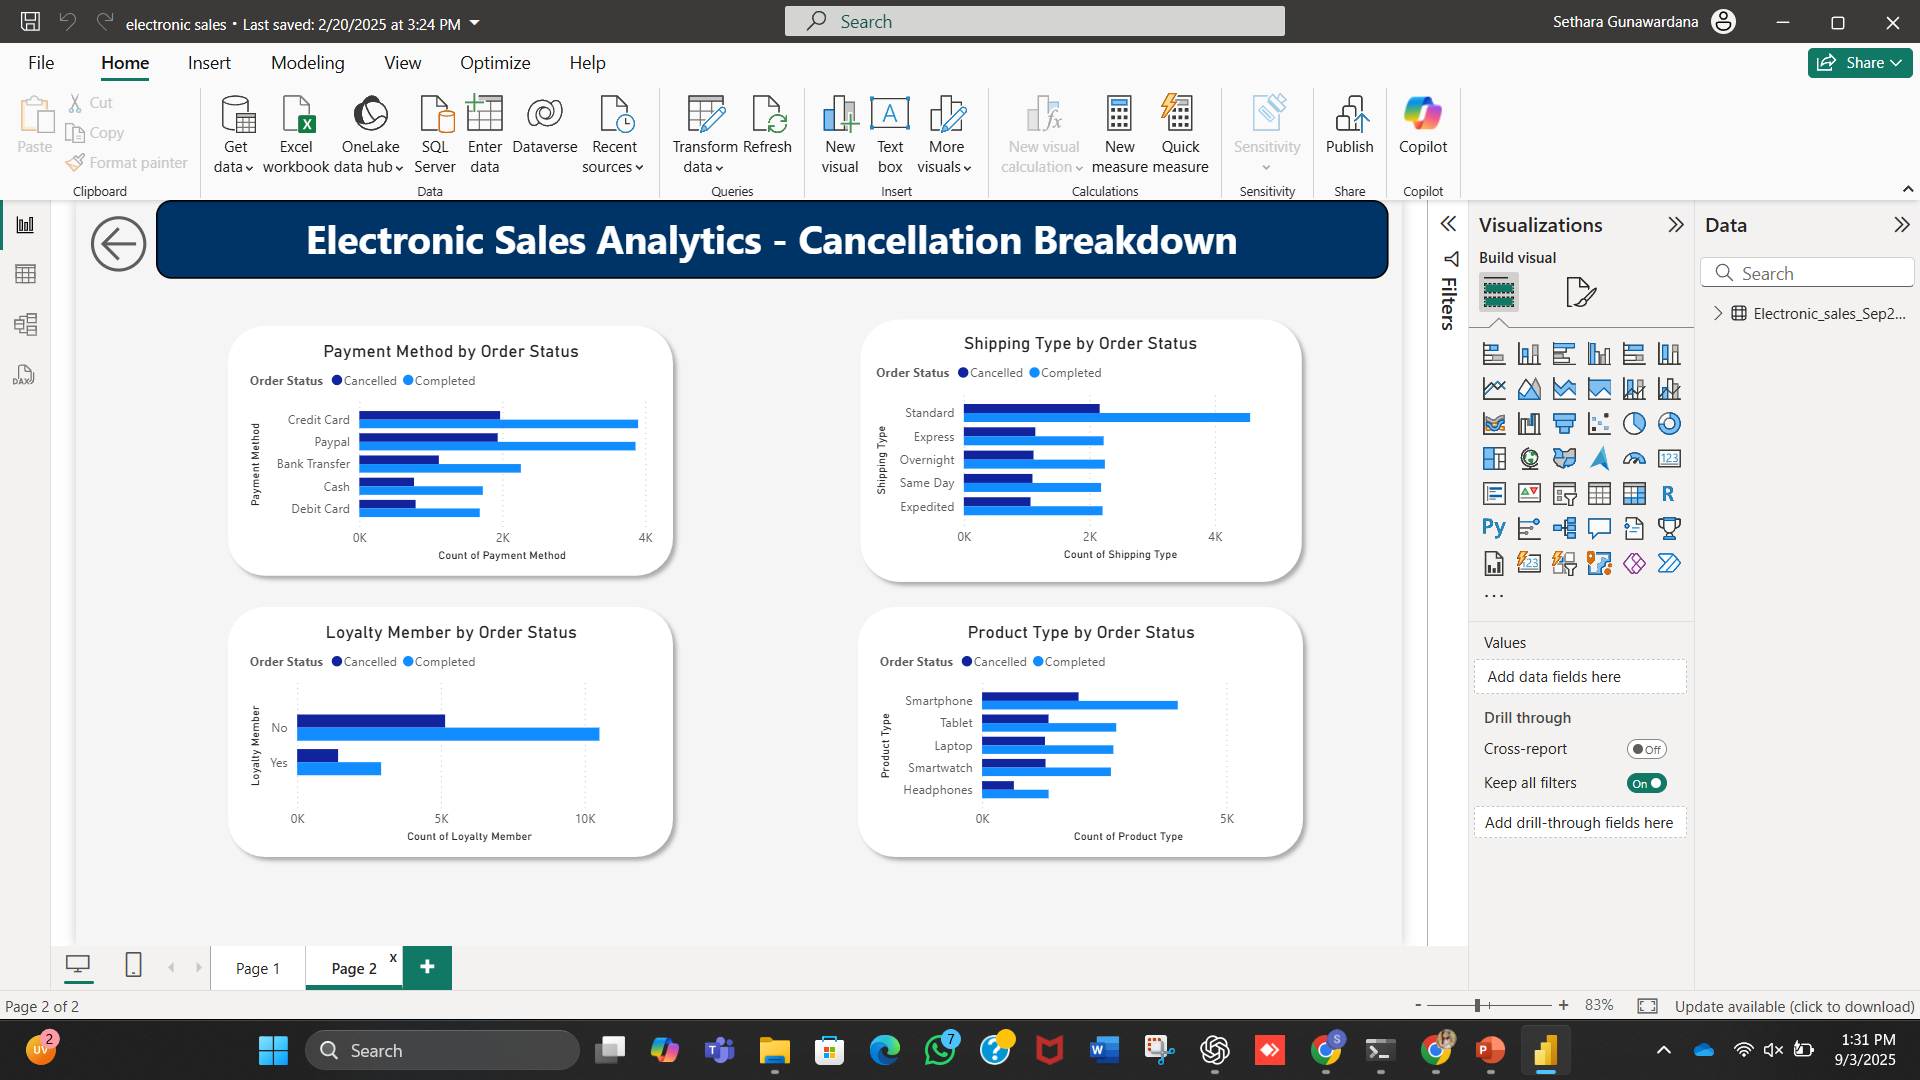

The page's visual inventory and layout, read from the dashboard file:
{"tool":"powerbi","page":{"name":"Page 2","canvas":[1280,720],"ordinal":1},"visuals":[{"type":"shape","box":[747.7,106.2,444,271.4],"z":0,"group":"g2"},{"type":"shape","box":[138.1,112.2,447.6,259.5],"z":0,"group":"g4"},{"type":"shape","box":[138.1,383,447.6,259.5],"z":0,"group":"g3"},{"type":"group","id":"g1","title":"Group 3","box":[746.1,383.3,447.6,259.4],"z":0},{"type":"shape","box":[746.1,383.3,447.6,259.5],"z":0,"group":"g1"},{"type":"group","id":"g2","title":"Group 8","box":[747.7,106.2,444,271.4],"z":1000},{"type":"group","id":"g3","title":"Group 3","box":[138.1,383,447.6,259.4],"z":2000},{"type":"group","id":"g4","title":"Group 3","box":[138.1,112.2,447.6,259.4],"z":3000},{"type":"clusteredBarChart","title":"Shipping Type by Order Status","fields":{"Category":["Electronic_sales_Sep2023-Sep2024.Shipping Type"],"Y":["CountNonNull(Electronic_sales_Sep2023-Sep2024.Shipping Type)"],"Series":["Electronic_sales_Sep2023-Sep2024.Order Status"]},"box":[766.7,127.6,404.7,225],"z":3000,"group":"g2"},{"type":"textbox","box":[77.4,0,1189.3,76.2],"z":4000},{"type":"actionButton","box":[7.1,8.3,164.3,67.9],"z":5000},{"type":"clusteredBarChart","title":"Payment Method by  Order Status","fields":{"Series":["Electronic_sales_Sep2023-Sep2024.Order Status"],"Category":["Electronic_sales_Sep2023-Sep2024.Payment Method"],"Y":["CountNonNull(Electronic_sales_Sep2023-Sep2024.Payment Method)"]},"box":[163.1,134.8,398.8,219],"z":6000,"group":"g4"},{"type":"clusteredBarChart","title":"Loyalty Member by  Order Status","fields":{"Category":["Electronic_sales_Sep2023-Sep2024.Loyalty Member"],"Series":["Electronic_sales_Sep2023-Sep2024.Order Status"],"Y":["CountNonNull(Electronic_sales_Sep2023-Sep2024.Loyalty Member)"]},"box":[163.1,405.6,398.8,219],"z":6000,"group":"g3"},{"type":"clusteredBarChart","title":"Product Type by  Order Status","fields":{"Category":["Electronic_sales_Sep2023-Sep2024.Product Type"],"Series":["Electronic_sales_Sep2023-Sep2024.Order Status"],"Y":["CountNonNull(Electronic_sales_Sep2023-Sep2024.Product Type)"]},"box":[771.1,405.9,398.8,219],"z":6000,"group":"g1"}]}

Visuals, with their boxes on the page's 1280x720 design canvas (x1, y1, x2, y2). These are canvas units, not pixel positions in the 1920x1080 screenshot, which may show the page scaled, cropped or inside an application window:
shape: box=[748, 106, 1192, 378]
shape: box=[138, 112, 586, 372]
shape: box=[138, 383, 586, 642]
"Group 3" group: box=[746, 383, 1194, 643]
shape: box=[746, 383, 1194, 643]
"Group 8" group: box=[748, 106, 1192, 378]
"Group 3" group: box=[138, 383, 586, 642]
"Group 3" group: box=[138, 112, 586, 372]
"Shipping Type by Order Status" clusteredBarChart: box=[767, 128, 1171, 353]
textbox: box=[77, 0, 1267, 76]
actionButton: box=[7, 8, 171, 76]
"Payment Method by  Order Status" clusteredBarChart: box=[163, 135, 562, 354]
"Loyalty Member by  Order Status" clusteredBarChart: box=[163, 406, 562, 625]
"Product Type by  Order Status" clusteredBarChart: box=[771, 406, 1170, 625]
